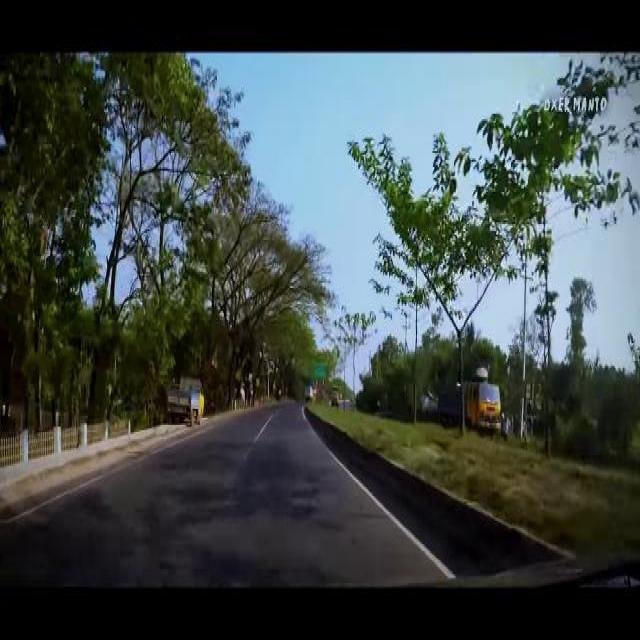vehicle: (436, 365, 506, 433), (164, 374, 205, 429)
